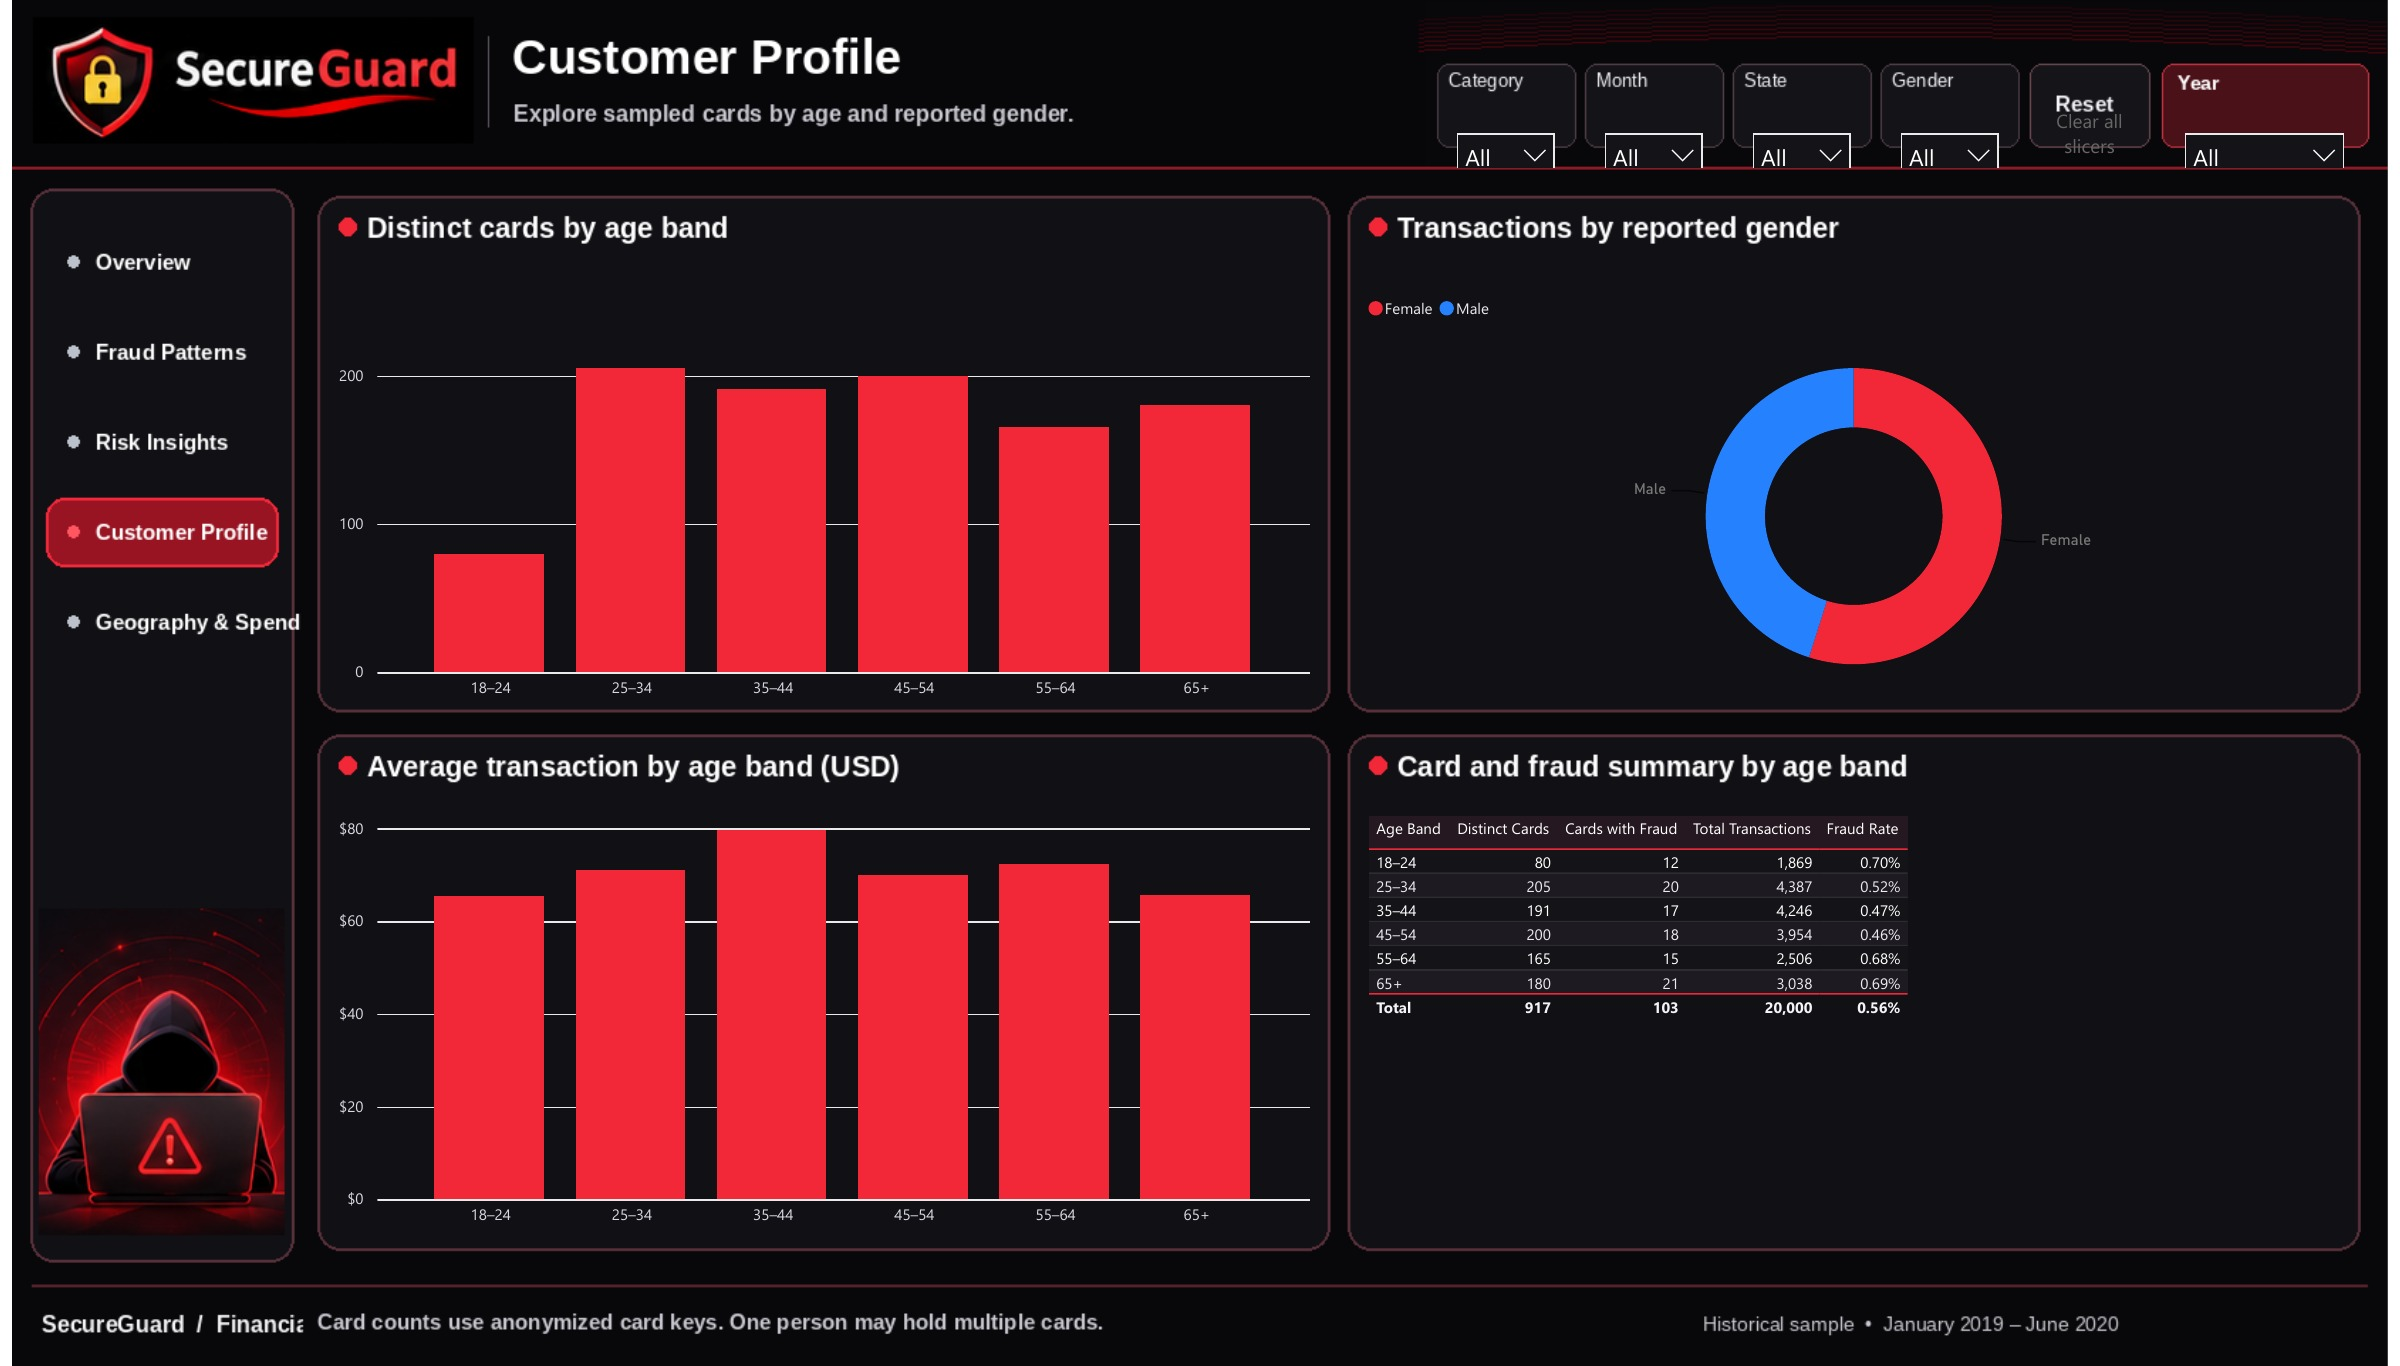

The page's visual inventory and layout, read from the dashboard file:
{"tool":"powerbi","page":{"name":"Customer Profile","canvas":[1672,941],"ordinal":3},"visuals":[{"type":"slicer","fields":{"Values":["Transactions.Category"]},"box":[1007,64,89,34],"z":9000},{"type":"slicer","fields":{"Values":["Transactions.Month"]},"box":[1111,64,89,34],"z":10000},{"type":"slicer","fields":{"Values":["Transactions.State"]},"box":[1215,64,89,34],"z":11000},{"type":"slicer","fields":{"Values":["Transactions.Gender"]},"box":[1319,64,89,34],"z":12000},{"type":"actionButton","box":[1420,44,84,57],"z":14000},{"type":"columnChart","fields":{"Category":["Transactions.Age Band"],"Y":["Transactions.Distinct Cards"]},"box":[224,178,694,303],"z":16000},{"type":"donutChart","fields":{"Category":["Transactions.Gender"],"Y":["Transactions.Total Transactions"]},"box":[949,178,694,303],"z":18000},{"type":"columnChart","fields":{"Category":["Transactions.Age Band"],"Y":["Transactions.Average Amount"]},"box":[224,549,694,303],"z":20000},{"type":"tableEx","fields":{"Values":["Transactions.Age Band","Transactions.Distinct Cards","Transactions.Cards with Fraud","Transactions.Total Transactions","Transactions.Fraud Rate"]},"box":[949,549,694,303],"z":22000},{"type":"actionButton","box":[24,157,163,47],"z":95000},{"type":"actionButton","box":[24,219,163,47],"z":95001},{"type":"actionButton","box":[24,281,163,47],"z":95002},{"type":"actionButton","box":[24,343,163,47],"z":95003},{"type":"actionButton","box":[24,405,163,47],"z":95004},{"type":"slicer","fields":{"Values":["Transactions.Year"]},"box":[1519,64,132,34],"z":95150}]}

Visuals, with their boxes in screenshot pixels (x1, y1, x2, y2), scaled from the page's 1672x941 canvas onto the 2400x1366 screenshot:
slicer - Transactions.Category: (1445, 93, 1573, 142)
slicer - Transactions.Month: (1595, 93, 1722, 142)
slicer - Transactions.State: (1744, 93, 1872, 142)
slicer - Transactions.Gender: (1893, 93, 2021, 142)
actionButton: (2038, 64, 2159, 147)
columnChart - Transactions.Age Band x Transactions.Distinct Cards: (322, 258, 1318, 698)
donutChart - Transactions.Gender x Transactions.Total Transactions: (1362, 258, 2358, 698)
columnChart - Transactions.Age Band x Transactions.Average Amount: (322, 797, 1318, 1237)
tableEx - Transactions.Age Band x Transactions.Distinct Cards: (1362, 797, 2358, 1237)
actionButton: (34, 228, 268, 296)
actionButton: (34, 318, 268, 386)
actionButton: (34, 408, 268, 476)
actionButton: (34, 498, 268, 566)
actionButton: (34, 588, 268, 656)
slicer - Transactions.Year: (2180, 93, 2370, 142)
